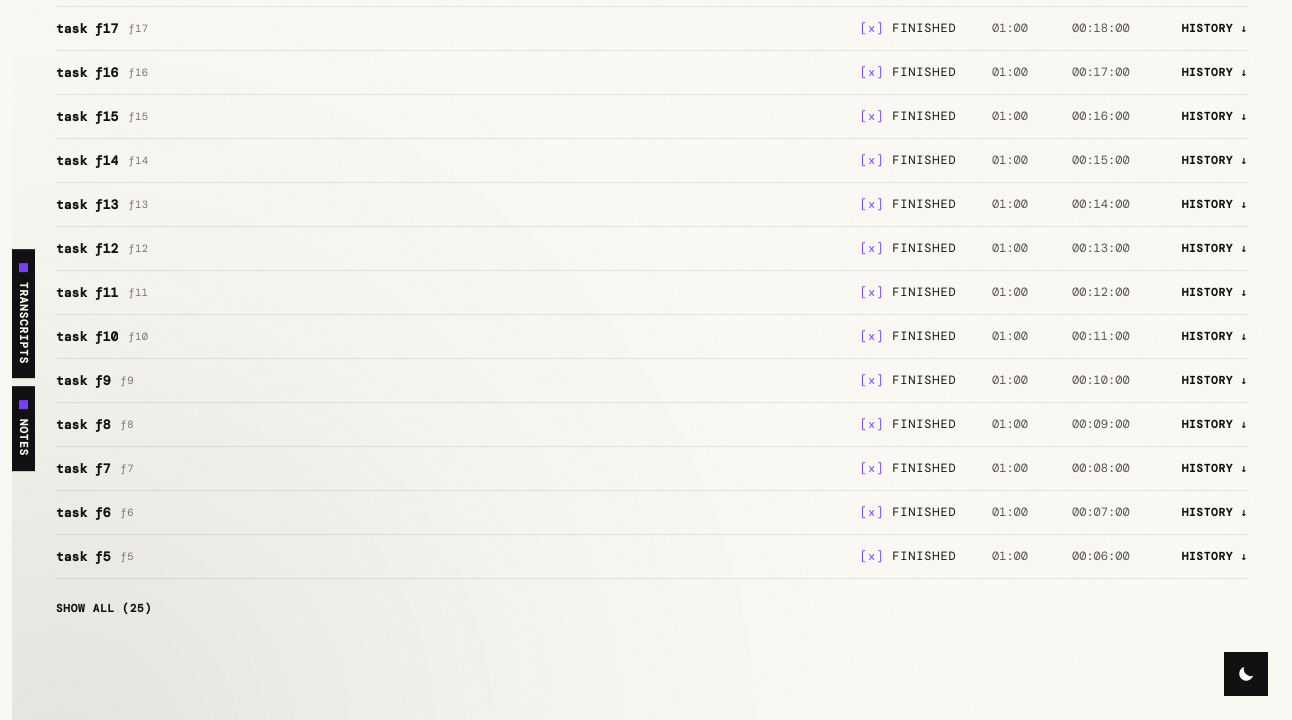
App › shows 20 archive rows until SHOW ALL is clicked
(page scrolled)
Click the button "SHOW ALL (25)" at [104, 608], box x1=56 y1=599 x2=152 y2=618
(page scrolled)
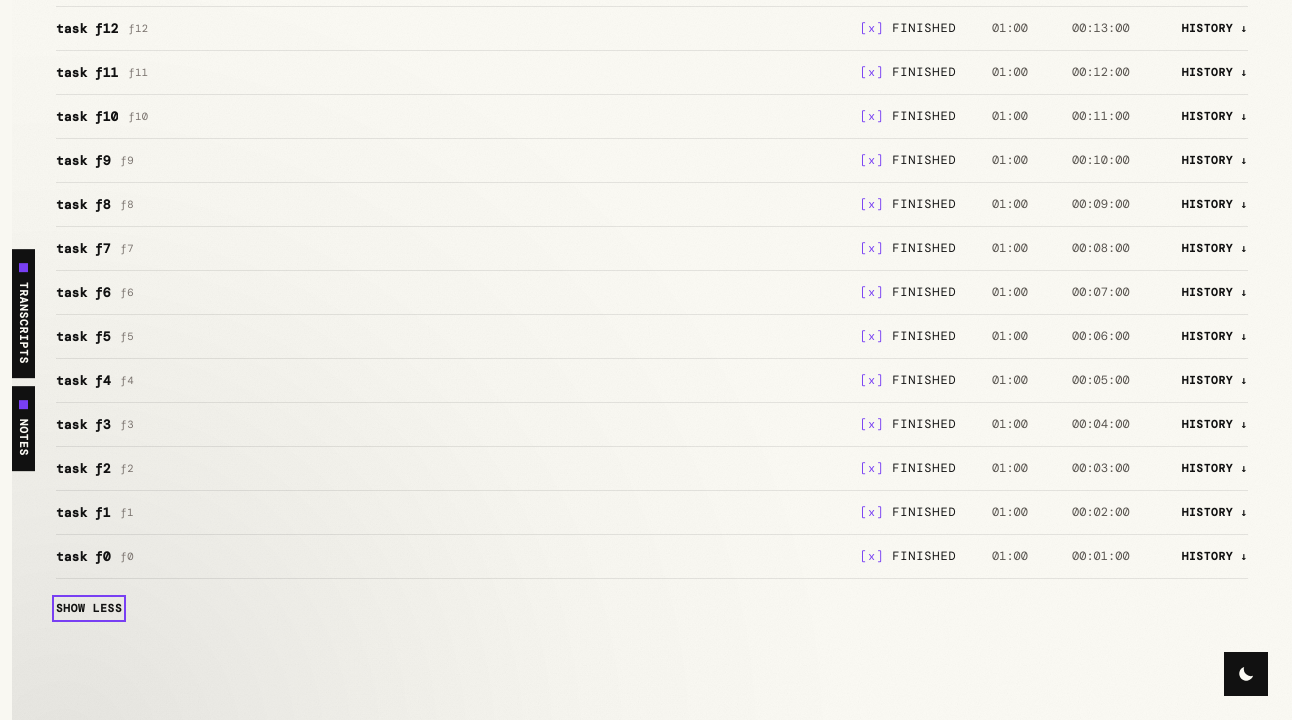
Result: the button "SHOW LESS" is shown at x1=56 y1=599 x2=122 y2=618
